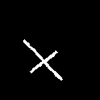single_crochet: (23, 40, 61, 79)
